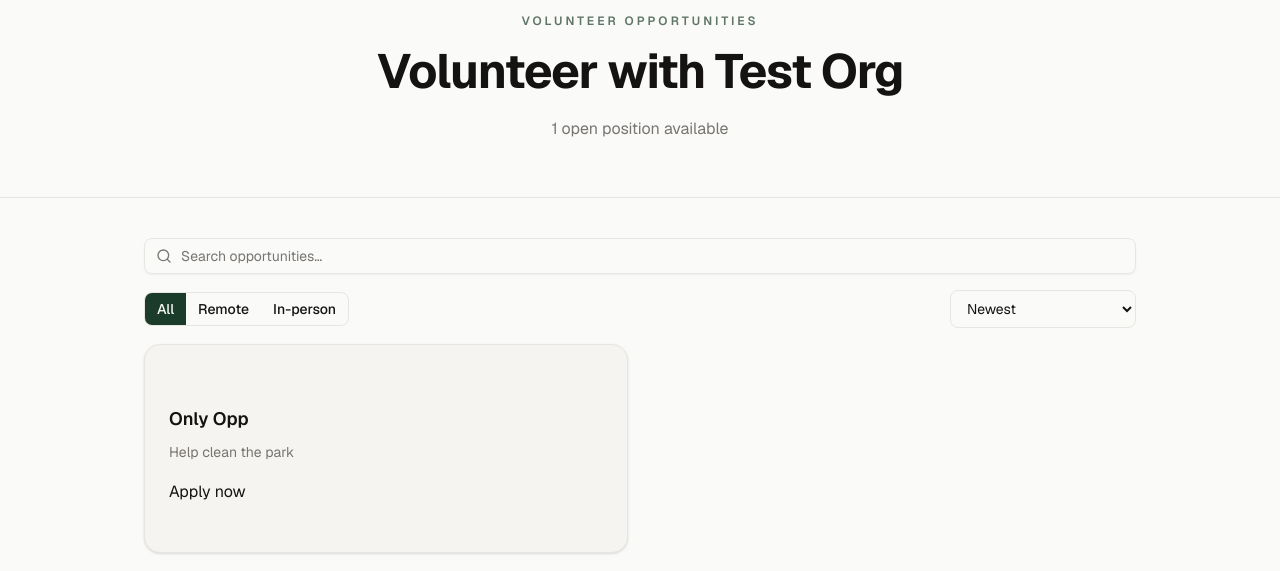
Test: OpportunitiesListing › shows the plain "Clear filters" message when an explicit filter (not qualification) empties the list
Step 1. Type "no-match-for-this-query" into the search field with placeholder "Search opportunities…" → [640, 256], box top-left (144, 238), bottom-right (1136, 274)
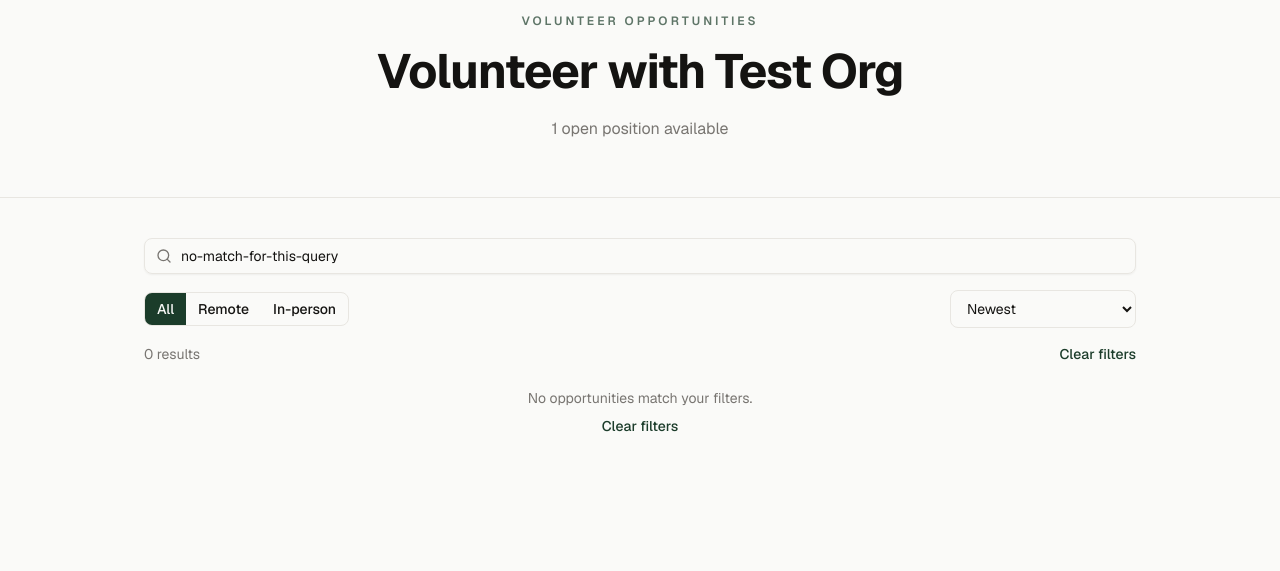
Now the text "No opportunities match your filters." is shown, box top-left (528, 389), bottom-right (752, 407)
Step 2. Click the button "Clear filters" in the row of "0 results" → [1098, 354], box top-left (1060, 344), bottom-right (1136, 364)
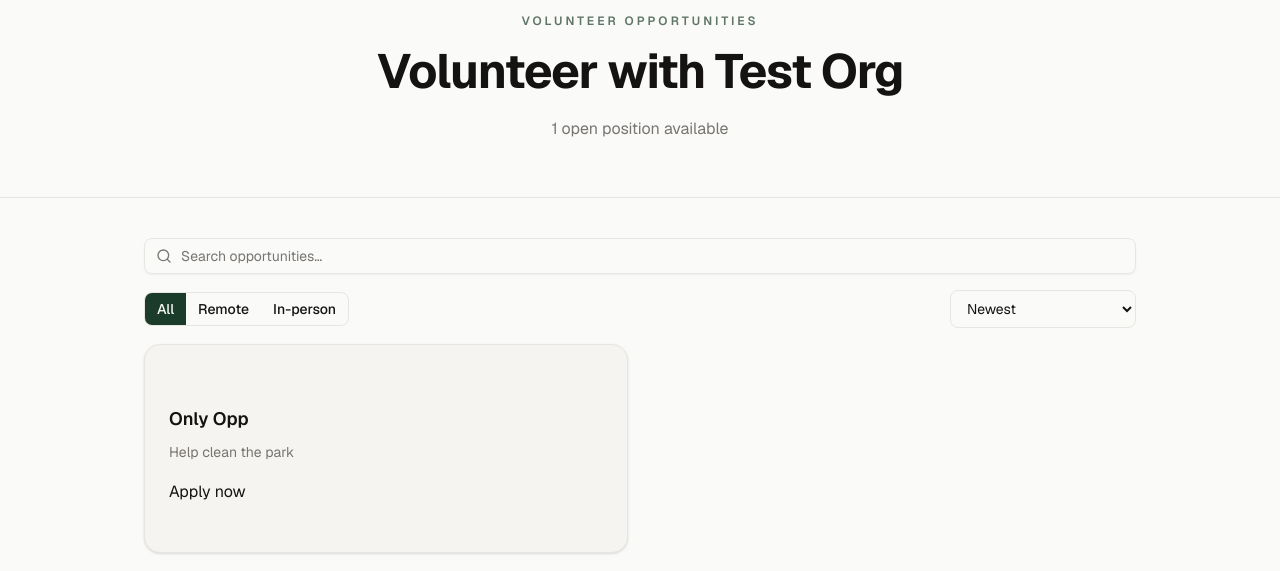
Now the heading "Only Opp" is shown, box top-left (169, 407), bottom-right (249, 430)
